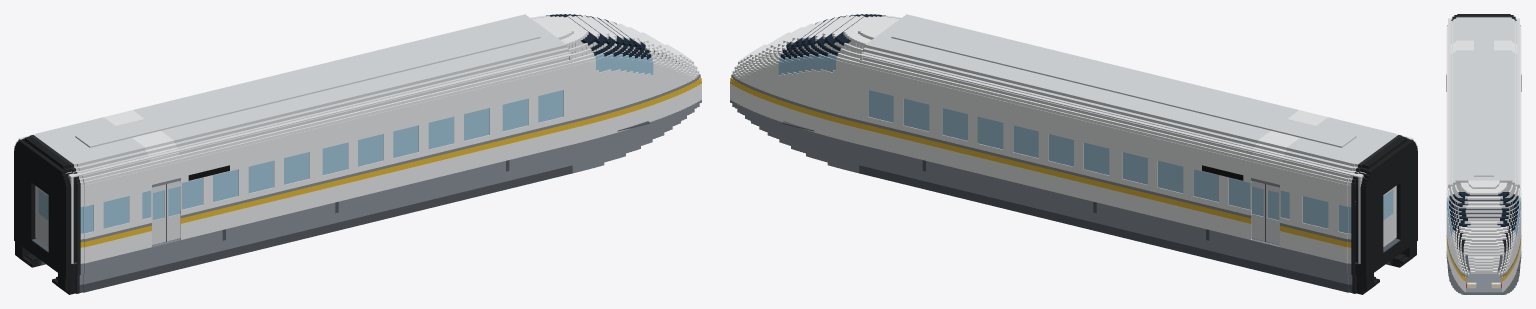
Rendered from tr09_front.obj.
3 renders of one model, left to right at view 1: azimuth 30°, elevation 25°; view 2: azimuth 150°, elevation 25°; view 3: azimuth 270°, elevation 25°, orthographic. The views are drawn at different scales.
Visible parts, largest first — view 1: SHELL, SHELL_roof, SHELL_diaphragm, SHELL_ceiling, EXTERNAL_DOOR_3_CG_DR1_TOGGLE_TL_-0.54_X, EXTERNAL_DOOR_4_CG_DR1_TOGGLE_TL_0.54_X, CONNECTING_DOOR_1_CG_CR_TOGGLE_TL_0.98_Z, SHELL_end; view 2: SHELL, SHELL_roof, SHELL_diaphragm, SHELL_ceiling, EXTERNAL_DOOR_6_CG_DL1_TOGGLE_TL_-0.54_X, EXTERNAL_DOOR_7_CG_DL1_TOGGLE_TL_0.54_X, CONNECTING_DOOR_1_CG_CR_TOGGLE_TL_0.98_Z, SHELL_end; view 3: SHELL, SHELL_roof, SHELL_ceiling, SHELL_cabwall, SHELL_desk, SHELL_floor, HEADLIGHT_1.
Part boxes in pixels (x1,y1,x2,y2): SHELL: (19,14,701,294); SHELL_roof: (75,26,540,147); SHELL_diaphragm: (14,139,69,291); SHELL_ceiling: (20,52,569,177); EXTERNAL_DOOR_3_CG_DR1_TOGGLE_TL_-0.54_X: (151,184,166,244); EXTERNAL_DOOR_4_CG_DR1_TOGGLE_TL_0.54_X: (167,180,181,241); CONNECTING_DOOR_1_CG_CR_TOGGLE_TL_0.98_Z: (37,187,48,246); SHELL_end: (18,138,73,263); SHELL: (730,14,1412,294); SHELL_roof: (891,26,1356,147); SHELL_diaphragm: (1362,139,1417,291); SHELL_ceiling: (862,52,1410,177); EXTERNAL_DOOR_6_CG_DL1_TOGGLE_TL_-0.54_X: (1265,184,1280,244); EXTERNAL_DOOR_7_CG_DL1_TOGGLE_TL_0.54_X: (1250,180,1264,241); CONNECTING_DOOR_1_CG_CR_TOGGLE_TL_0.98_Z: (1383,187,1394,246); SHELL_end: (1358,138,1413,263); SHELL: (1446,14,1521,294); SHELL_roof: (1474,26,1493,176); SHELL_ceiling: (1448,19,1519,183); SHELL_cabwall: (1448,184,1519,229); SHELL_desk: (1454,229,1513,252); SHELL_floor: (1448,252,1519,270); HEADLIGHT_1: (1467,282,1500,288).
Size of the model in its own units: 25.16 by 4.67 by 3.72.
1 material, 1 textured.
